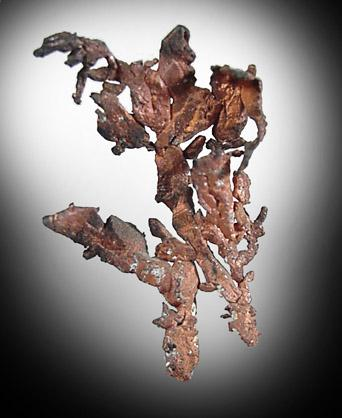copper: (34, 25, 268, 381), (34, 25, 267, 382), (35, 26, 221, 148), (90, 81, 155, 154), (192, 139, 235, 239)
